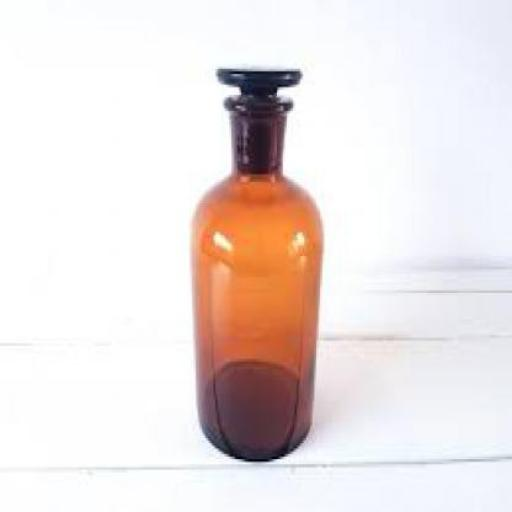glass: (188, 66, 320, 460)
